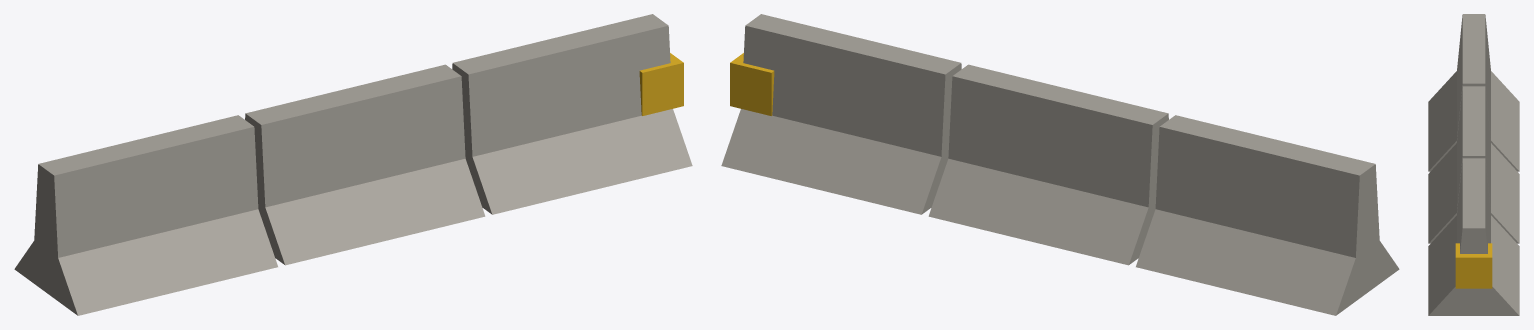
File: prop_concrete.glb
3 views of the same model, side by side, from view 1: azimuth 30°, elevation 25°; view 2: azimuth 150°, elevation 25°; view 3: azimuth 270°, elevation 25° (orthographic). The views are drawn at different scales.
Size of the model in its own units: 4.53 by 0.85 by 0.8.
